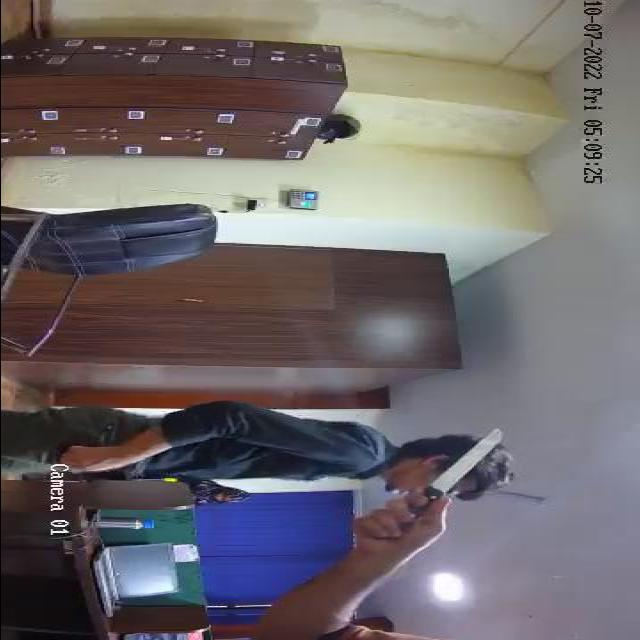Sharp-Object: (386, 429, 505, 537)
